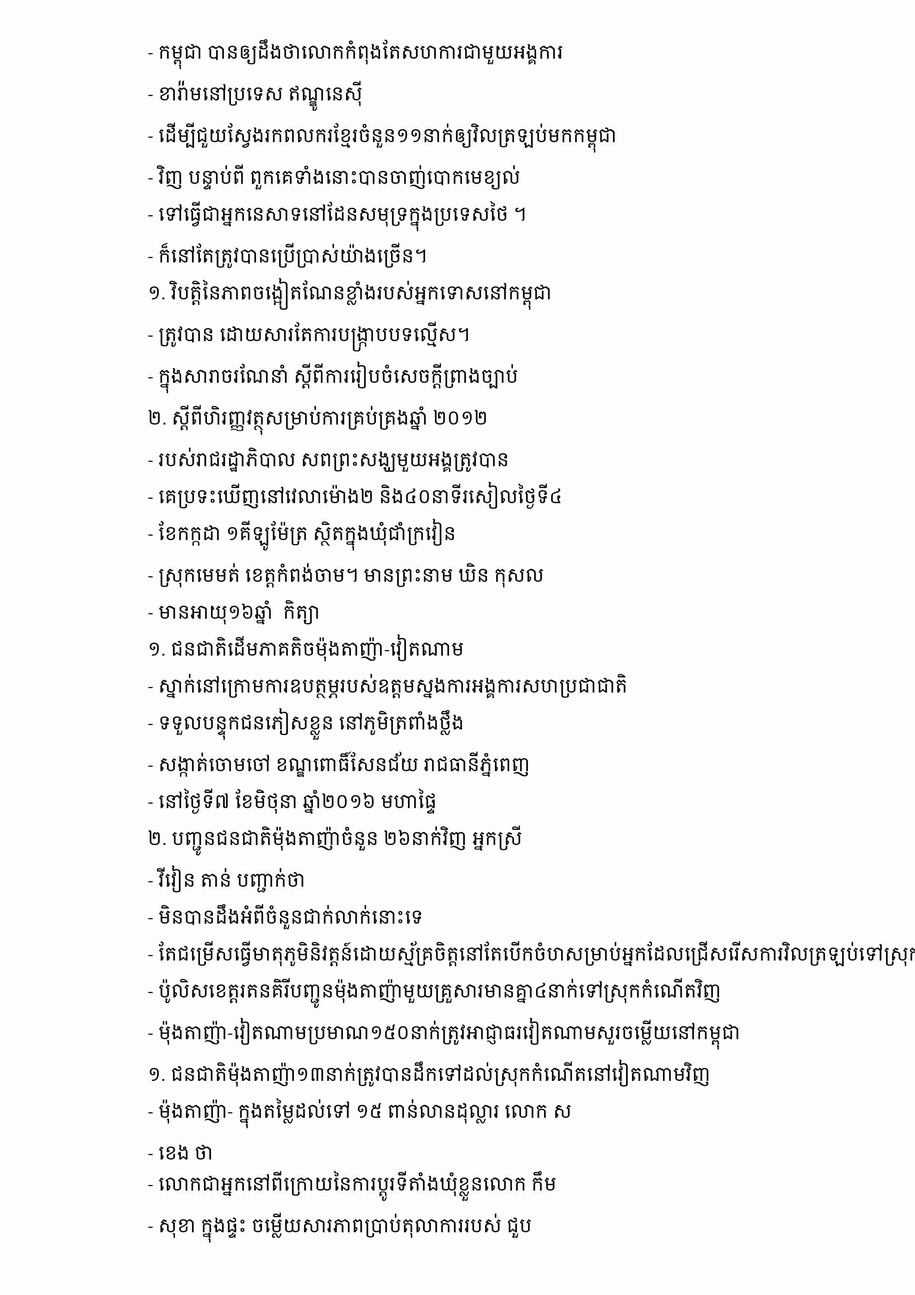text: (148, 941, 915, 966), (148, 1018, 745, 1050), (148, 978, 726, 1008), (148, 1059, 715, 1087), (148, 123, 622, 153), (148, 1098, 577, 1129), (148, 278, 557, 310), (148, 39, 568, 69), (148, 1171, 562, 1201), (148, 361, 523, 394), (148, 825, 527, 856), (148, 1213, 537, 1243), (148, 674, 633, 698), (148, 201, 532, 231), (148, 482, 567, 509), (148, 405, 493, 435), (148, 708, 469, 740), (148, 751, 535, 777), (148, 563, 549, 588), (148, 519, 461, 551), (148, 322, 475, 352), (148, 164, 525, 190), (148, 447, 514, 472), (148, 634, 469, 662), (148, 789, 442, 814), (148, 904, 428, 930), (148, 243, 432, 268), (148, 80, 367, 111), (148, 865, 310, 893), (148, 600, 325, 625), (148, 1145, 218, 1160)
